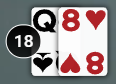8: (59, 7, 82, 34)
q: (32, 7, 58, 35)
